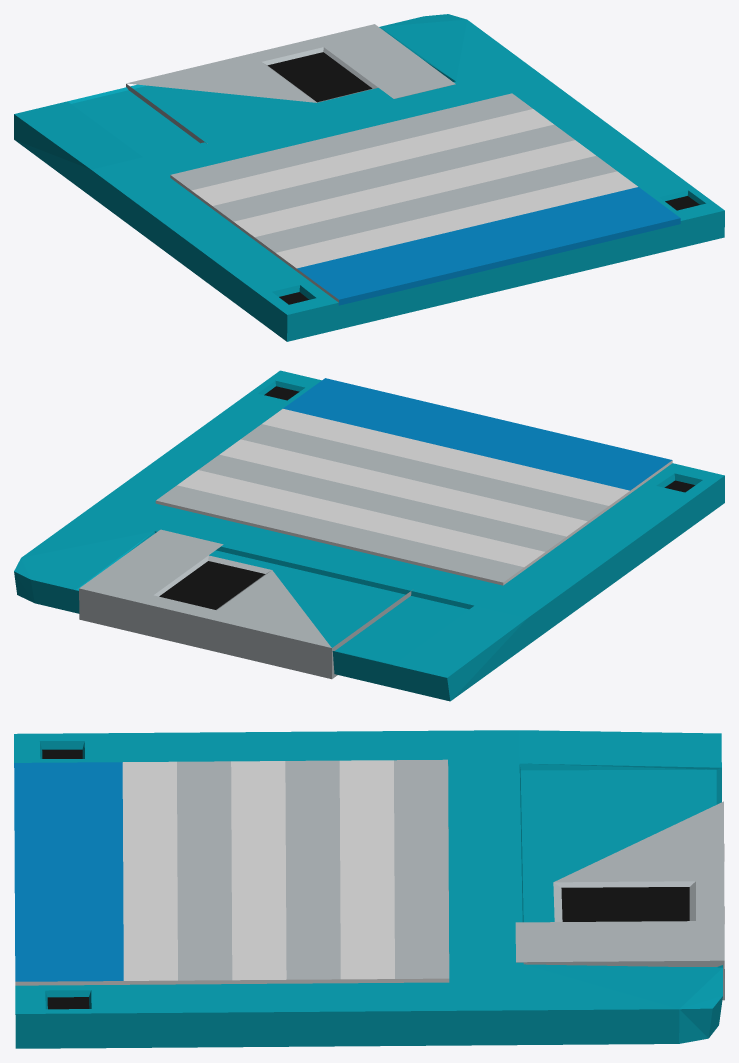
The model's file is disk.gltf.
The picture shows the model from 3 angles, top to bottom: view 1: azimuth 30°, elevation 25°; view 2: azimuth 150°, elevation 25°; view 3: azimuth 270°, elevation 25°; orthographic projection. The views are drawn at different scales.
Parts seen in each view (by area): view 1: node_MeshObject1457854720-PolyPaper9; view 2: node_MeshObject1457854720-PolyPaper9; view 3: node_MeshObject1457854720-PolyPaper9.
Boxes of the visible parts, box(x1,y1,x2,y2) form: node_MeshObject1457854720-PolyPaper9: box(14, 14, 724, 341); node_MeshObject1457854720-PolyPaper9: box(14, 370, 724, 701); node_MeshObject1457854720-PolyPaper9: box(14, 730, 724, 1048).
Size of the model in its own units: 3.07 by 0.2537 by 3.33.
